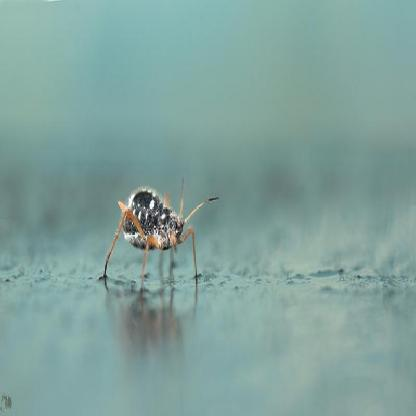aphid: (108, 176, 206, 309)
